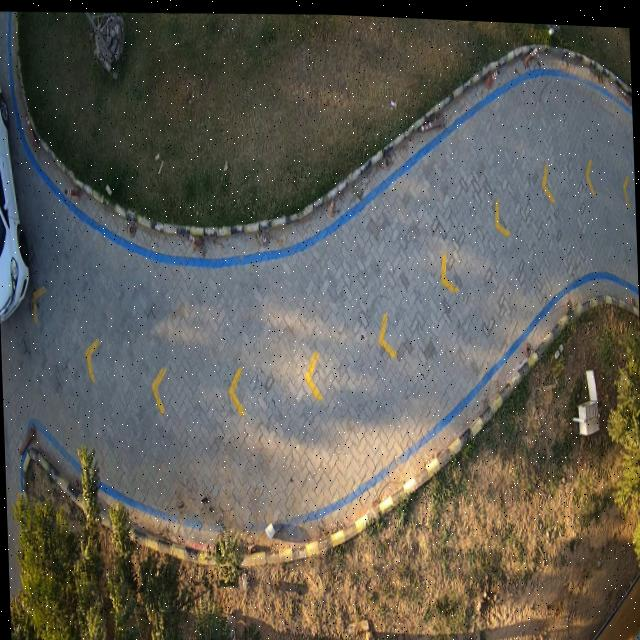car: (0, 120, 27, 329)
